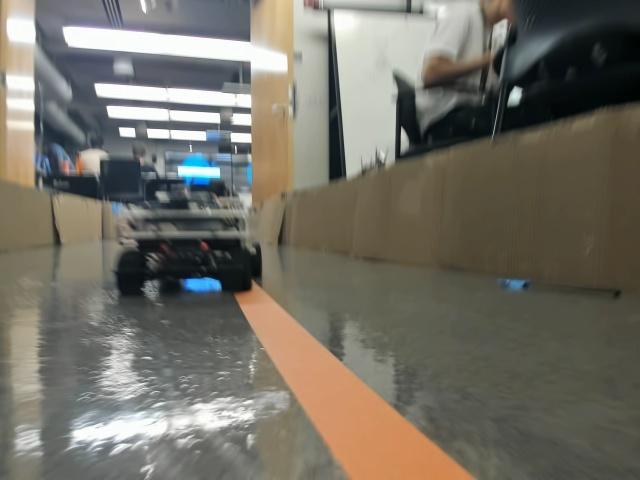Car: (110, 191, 264, 293)
